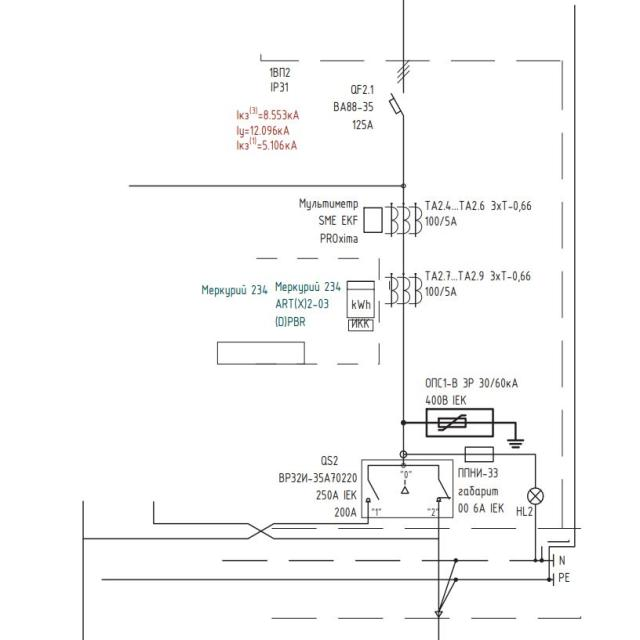-: (199, 277, 342, 334), (275, 470, 358, 520), (422, 368, 520, 408), (423, 267, 533, 301), (424, 197, 532, 230), (298, 196, 360, 246), (456, 463, 509, 516), (328, 98, 375, 132), (267, 66, 292, 94)
FU: (462, 442, 496, 465)
HL: (526, 486, 544, 506)
OPS: (424, 406, 495, 438)
PM: (362, 205, 385, 235)
QF: (387, 58, 412, 121)
TT: (382, 270, 424, 309), (383, 201, 424, 239)
WH: (345, 279, 377, 319)
switch: (363, 476, 451, 505)
